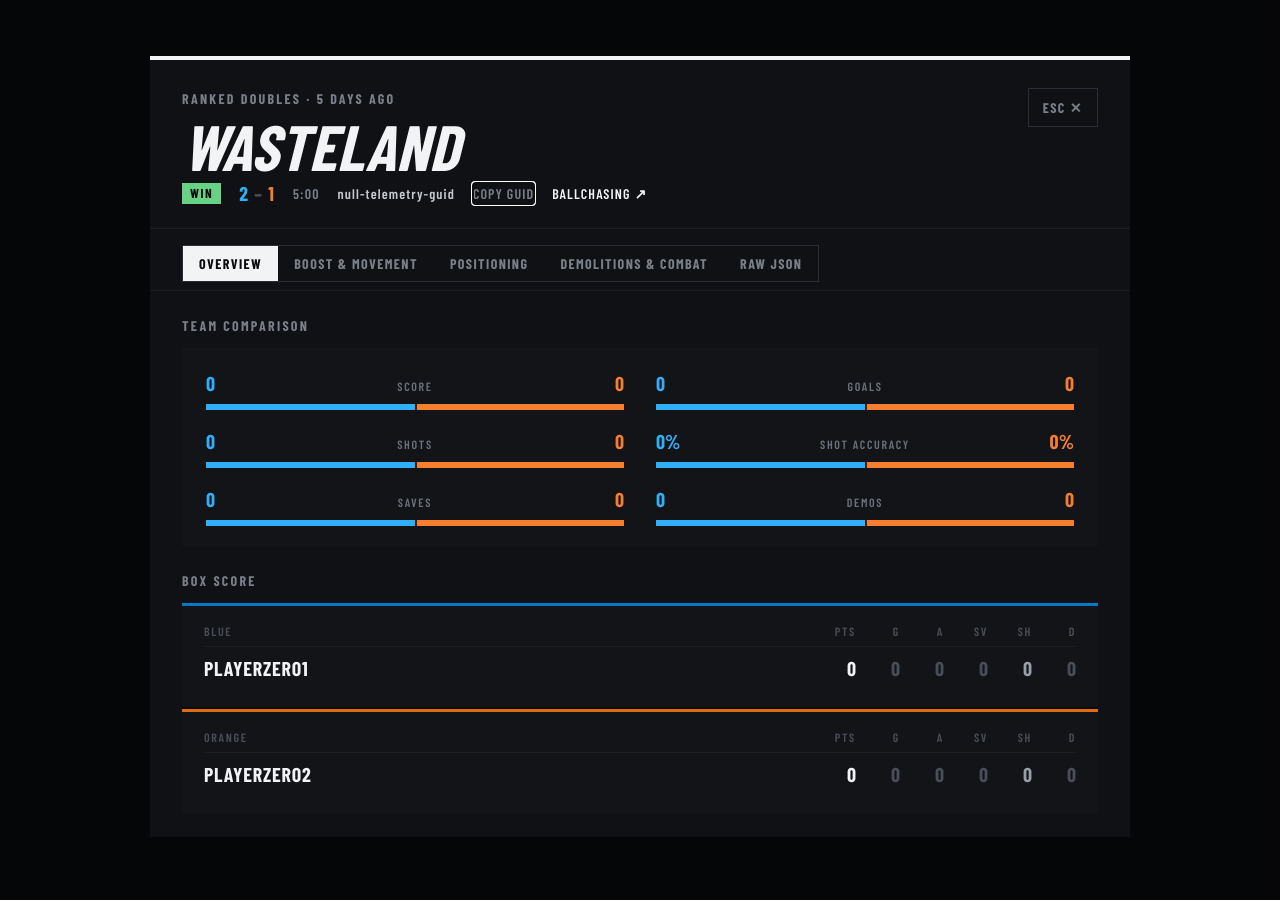
Test: M4 ADVERSARIAL CHALLENGER SUITE 1: DRILL-DOWNS, MODALS & VIEWS › HistoricalMatchDetailModal.tsx Adversarial Stress › gracefully renders matches with completely missing Ballchasing telemetry (null stats)
Click the button "BOOST & MOVEMENT" at (356, 264), box [278, 246, 434, 281]
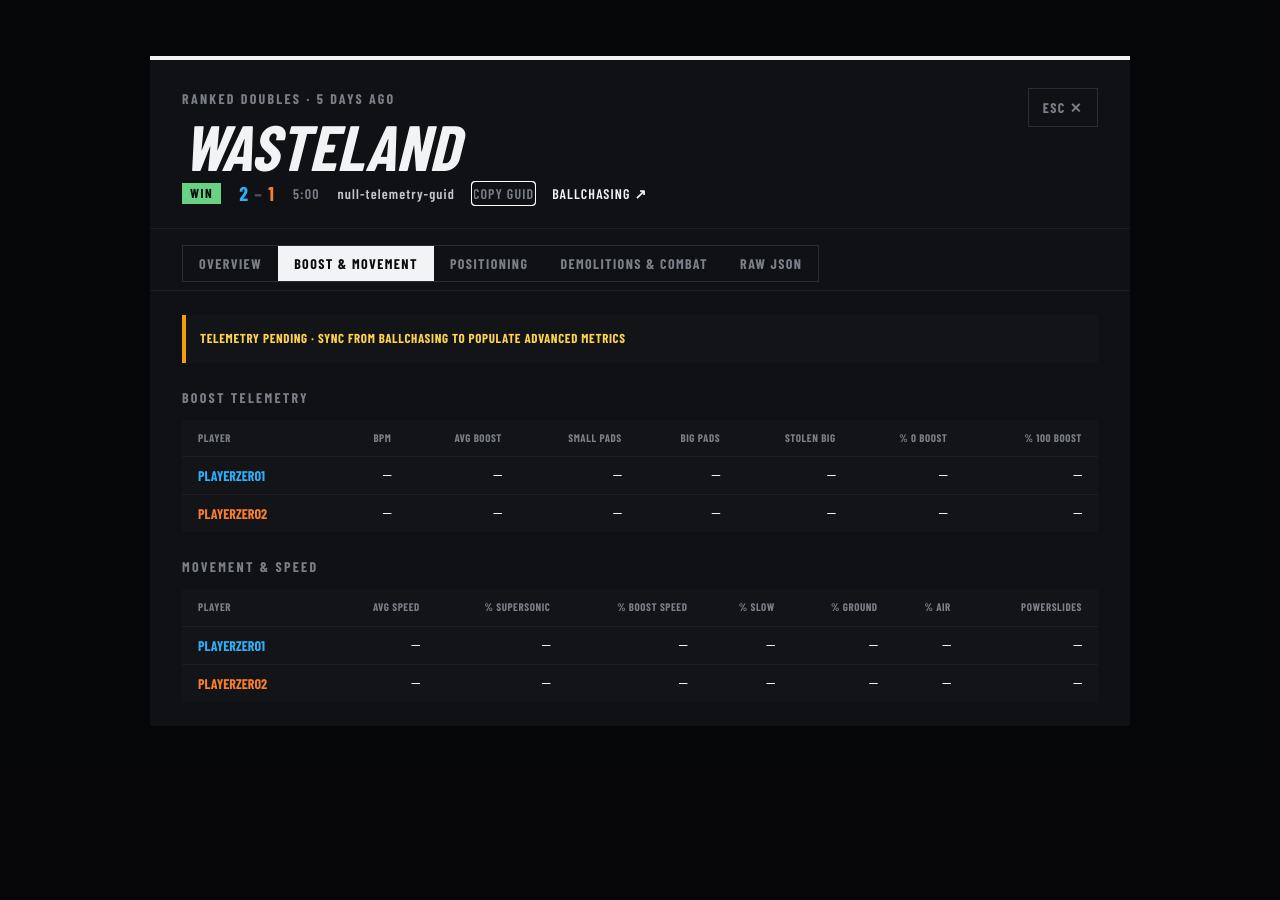
Now the text "TELEMETRY PENDING" is shown, box [200, 330, 626, 346]
Now the text "BOOST TELEMETRY" is shown, box [182, 389, 309, 406]
Now the text "—" is shown, box [338, 457, 403, 495]
Click the button "POSITIONING" at (489, 264), box [434, 246, 544, 281]
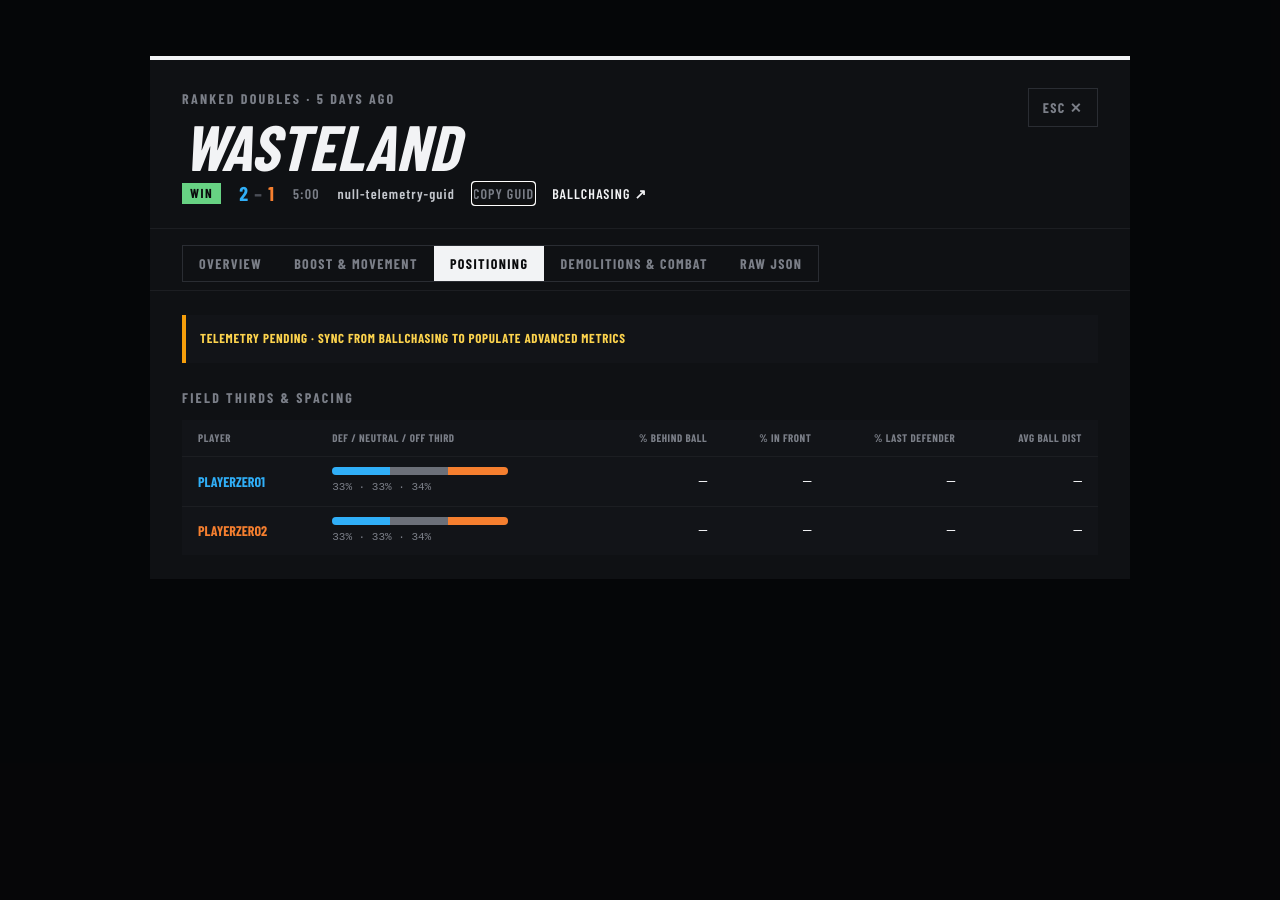
Now the text "TELEMETRY PENDING" is shown, box [200, 330, 626, 346]
Now the text "FIELD THIRDS & SPACING" is shown, box [182, 389, 354, 406]
Click the button "DEMOLITIONS & COMBAT" at (634, 264), box [544, 246, 724, 281]
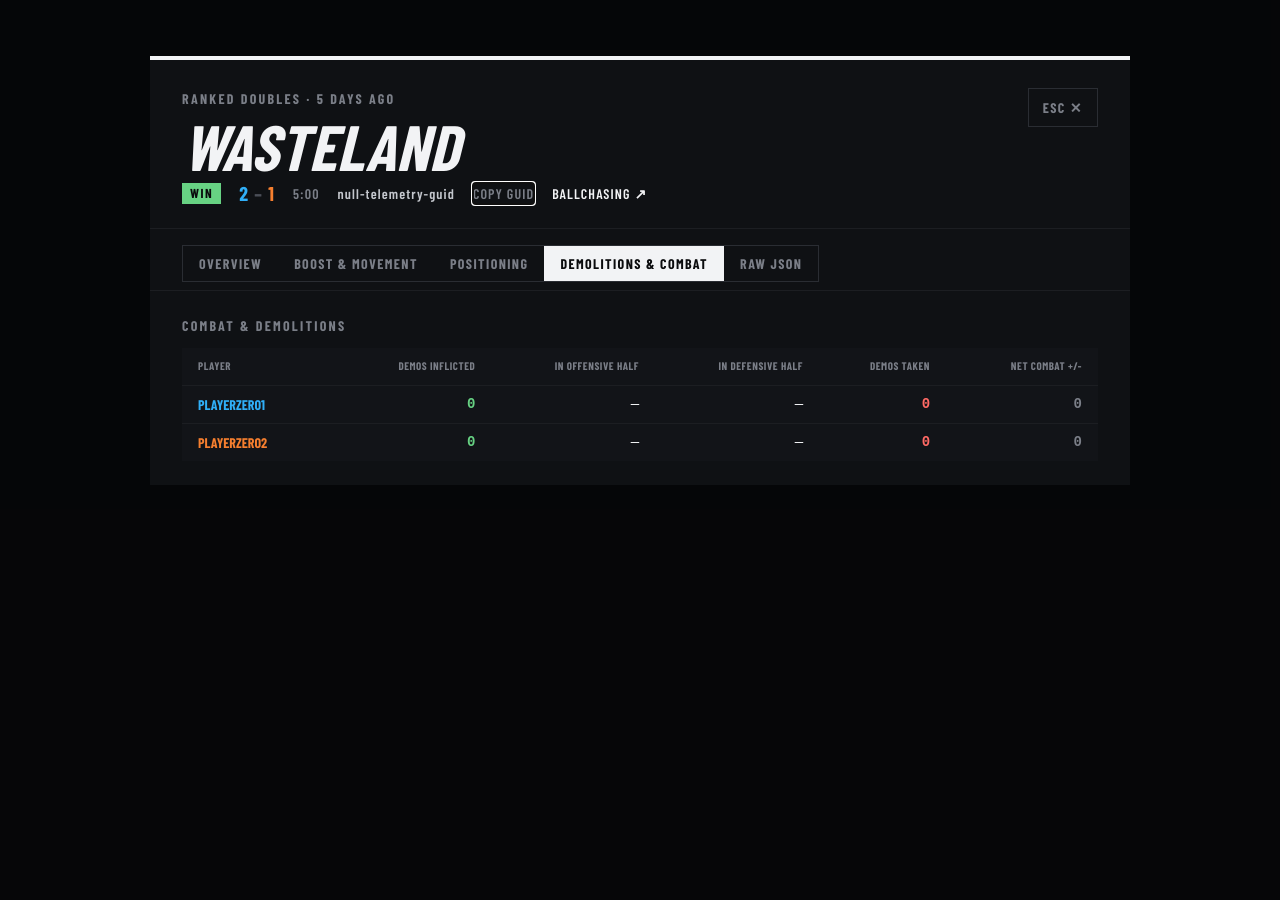
Expected: the text "PlayerZero1" is shown, [198, 394, 265, 415]
Now the text "COMBAT & DEMOLITIONS" is shown, box [182, 317, 346, 334]
Click the button "RAW JSON" at (771, 264), box [724, 246, 818, 281]
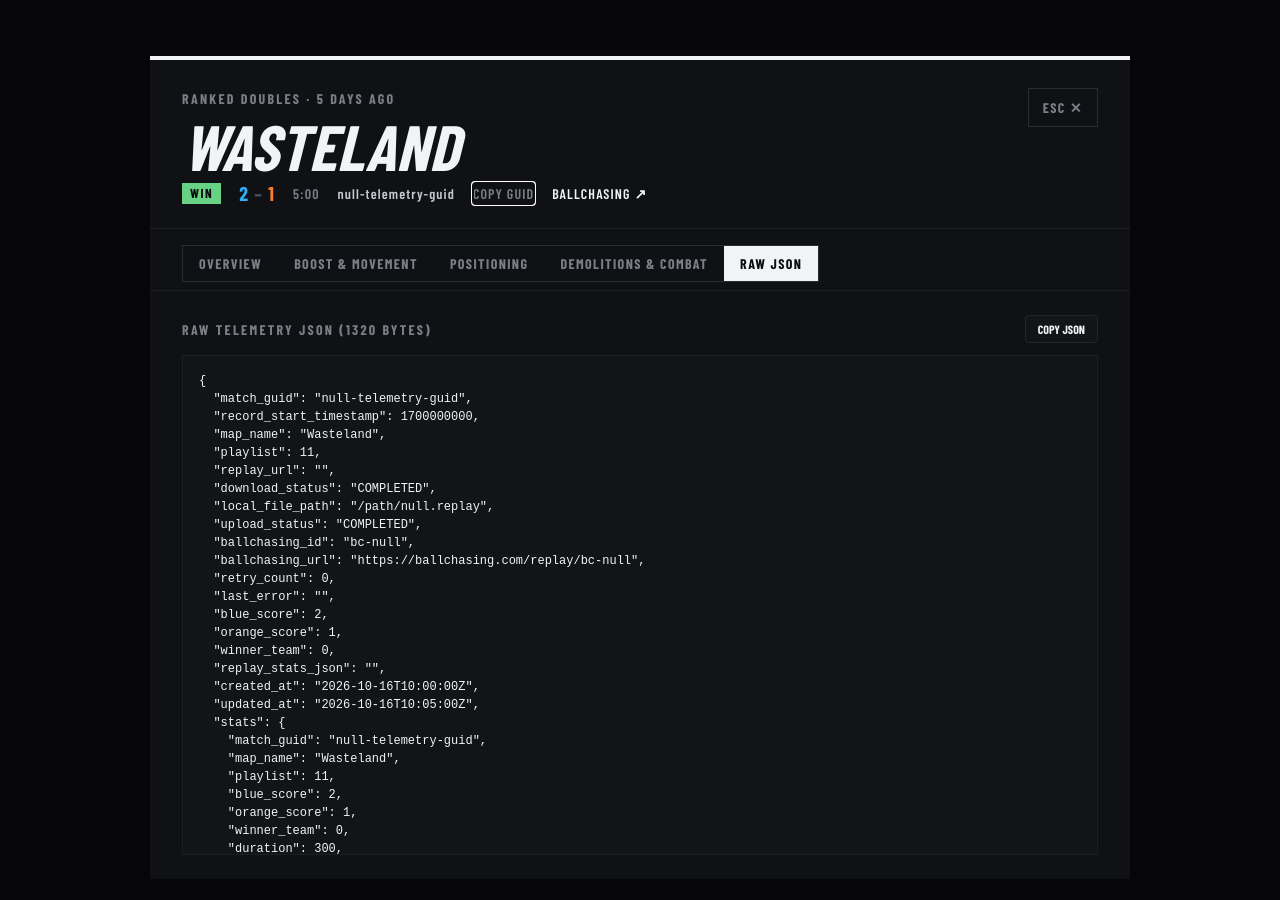
Expected: the text "null-telemetry-guid" is shown, [338, 183, 455, 204]
Now the text "RAW TELEMETRY JSON" is shown, box [182, 321, 346, 338]
